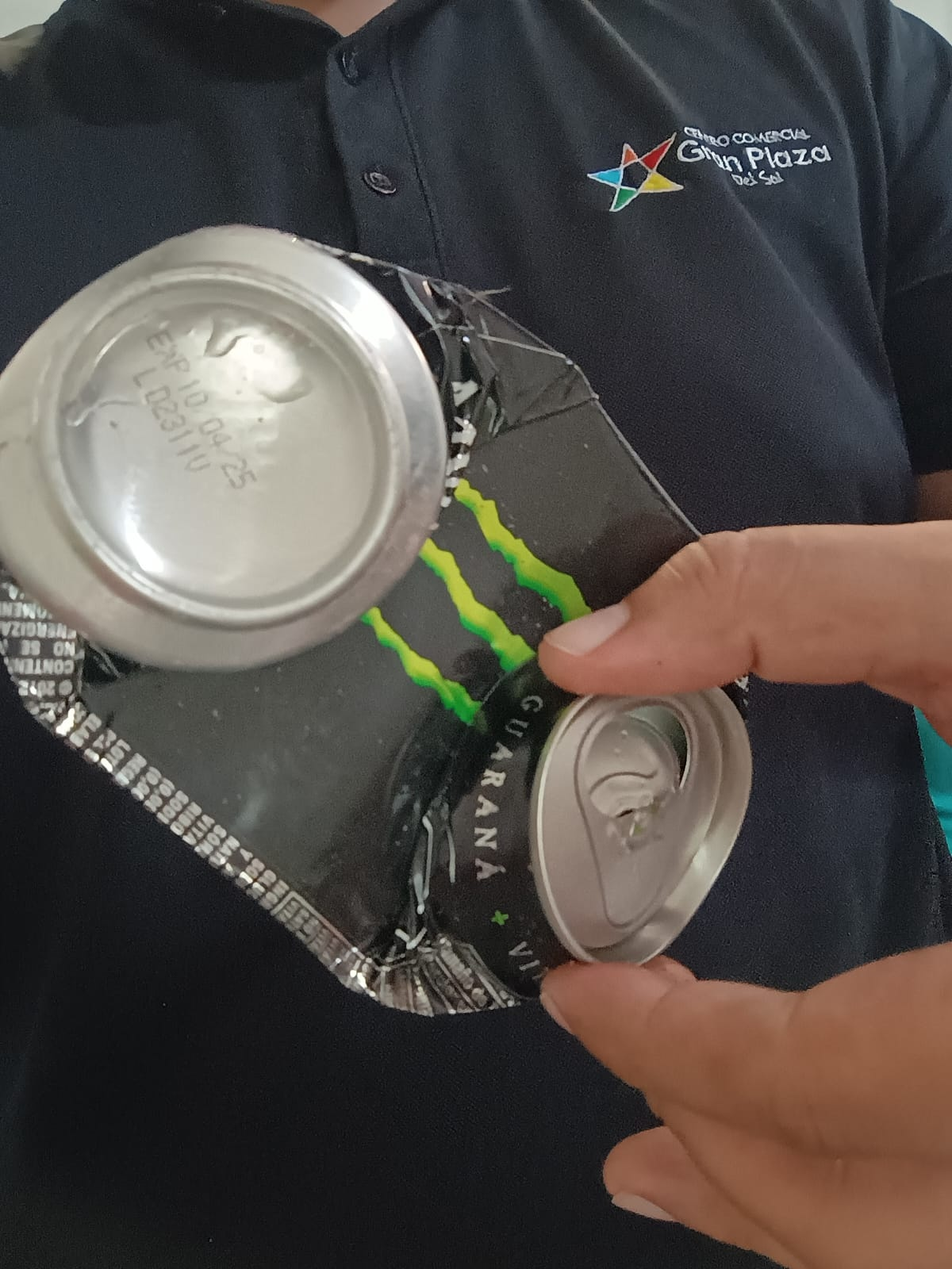Metal: (7, 228, 759, 1018)
